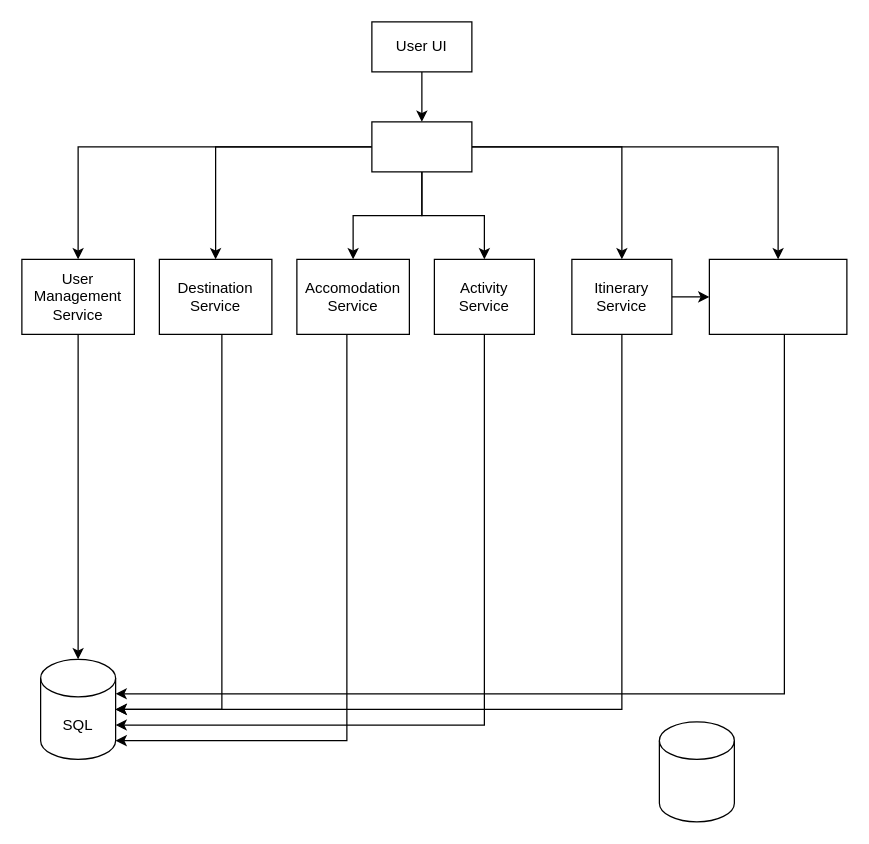
Some shapes in this 869 by 844 pixel diagram are drawn without their labels. Here are the shapes that lost their labels. From the top down, the box of each, then its label:
(371, 121, 472, 172): API Gateway
(708, 258, 847, 334): Recommendation Service
(658, 721, 734, 822): NoSQL
